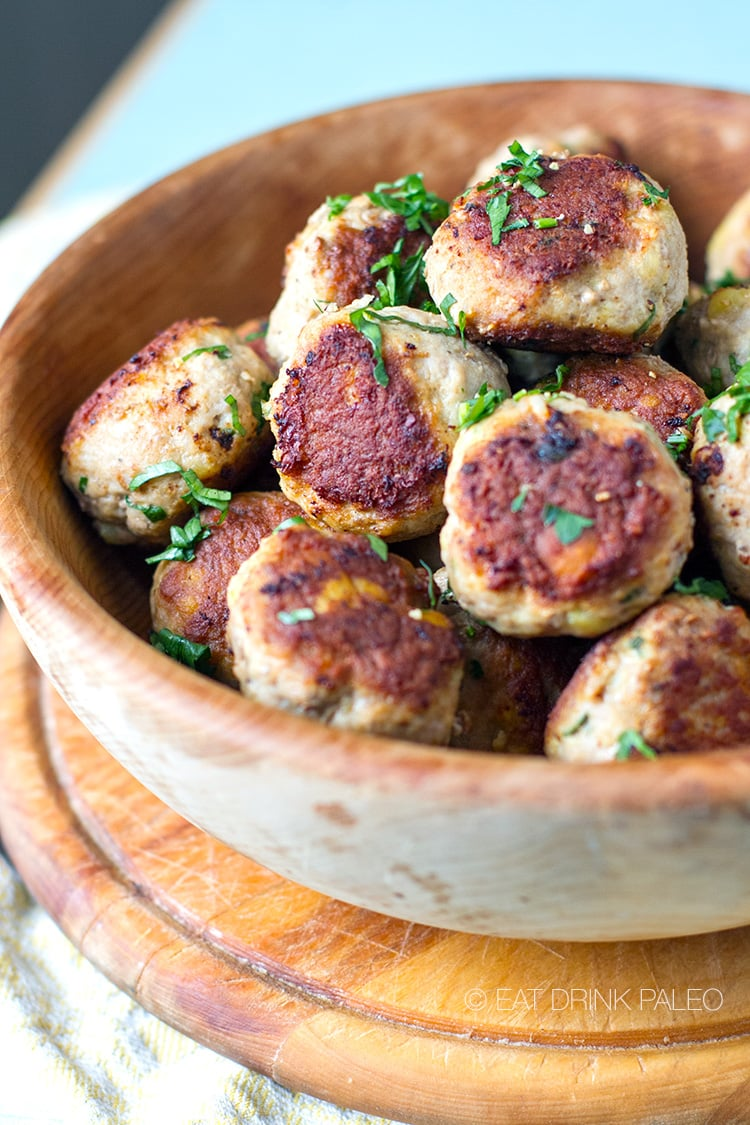meatballs: (438, 396, 676, 623), (439, 159, 686, 338), (271, 308, 482, 508), (229, 533, 464, 711), (48, 337, 257, 509), (546, 594, 750, 748), (276, 203, 440, 333)
